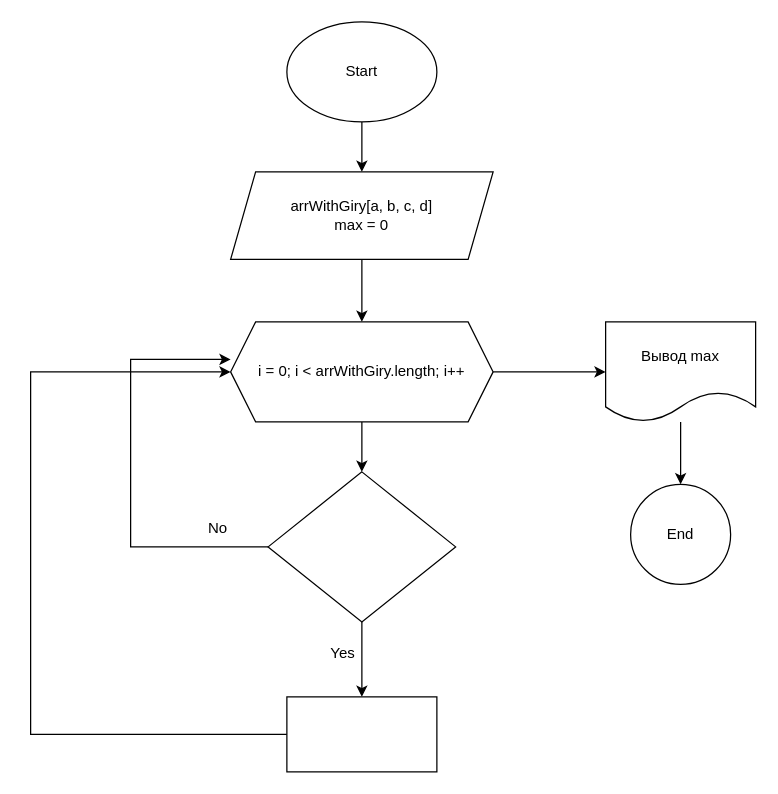
The diagram is 778 pixels wide and 794 high, and some of its shapes have lost their labels. The shapes that lost their labels are listed below. From the top down, each one's centre as x and y in pixels, then its label:
[361,546]: array[i] > max
[361,734]: max = array[i]
